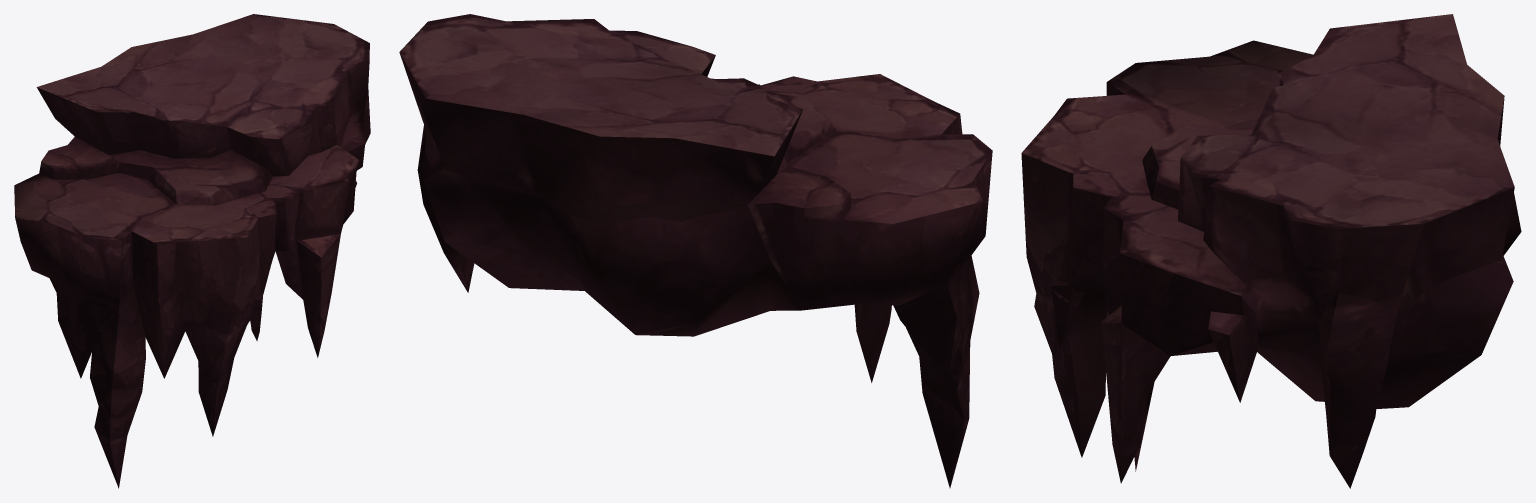
The model's file is BOSS_E_04.FBX.
3 renders of one model, left to right at view 1: azimuth 30°, elevation 25°; view 2: azimuth 150°, elevation 25°; view 3: azimuth 270°, elevation 25°, orthographic. The views are drawn at different scales.
Parts seen in each view (by area): view 1: BOSS_E_04; view 2: BOSS_E_04; view 3: BOSS_E_04.
Boxes of the visible parts, x1,y1,x2,y2 form: BOSS_E_04: [14, 14, 370, 488]; BOSS_E_04: [399, 14, 992, 488]; BOSS_E_04: [1021, 14, 1521, 488].
Bounding box in the file's own units: 12.44 × 9.87 × 9.41.
